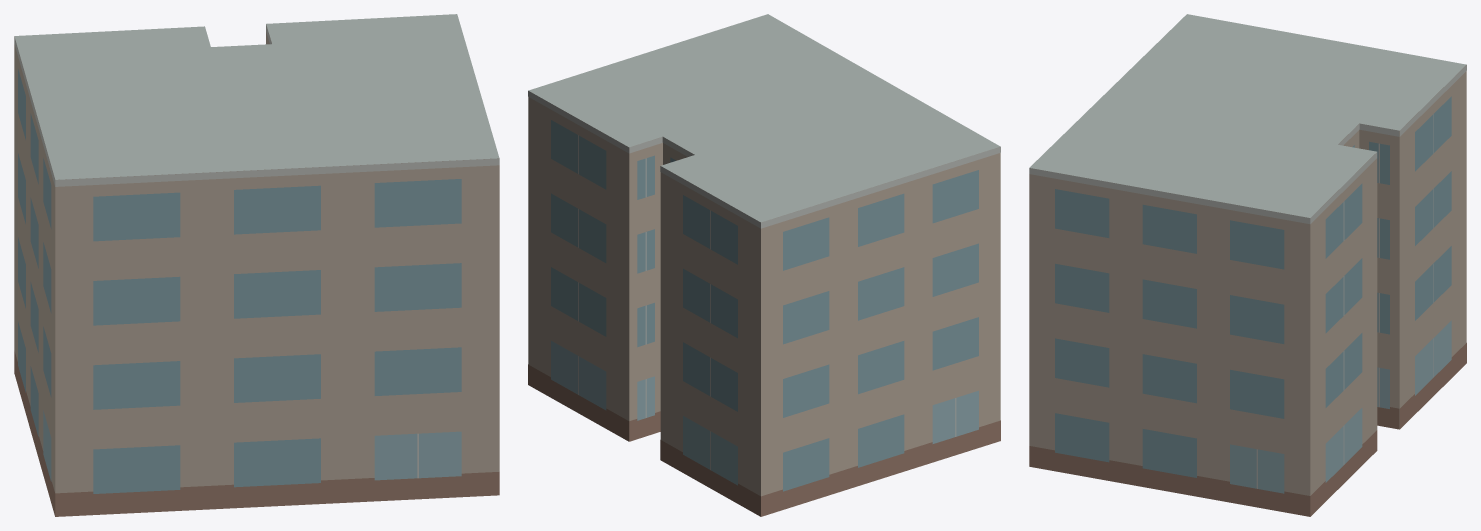
Rendered from survey-upis-32867918.glb.
The picture shows the model from 3 angles, left to right: view 1: azimuth 30°, elevation 25°; view 2: azimuth 150°, elevation 25°; view 3: azimuth 270°, elevation 25°; orthographic projection. The views are drawn at different scales.
Visible parts, largest first — view 1: survey-upis-32867918.tmp; view 2: survey-upis-32867918.tmp; view 3: survey-upis-32867918.tmp.
Boxes of the visible parts, x1=… form: survey-upis-32867918.tmp: x1=14, y1=14, x2=499, y2=516; survey-upis-32867918.tmp: x1=528, y1=14, x2=1000, y2=516; survey-upis-32867918.tmp: x1=1029, y1=14, x2=1466, y2=516.
Bounding box in the file's own units: 17.14 × 11.7 × 15.53.
